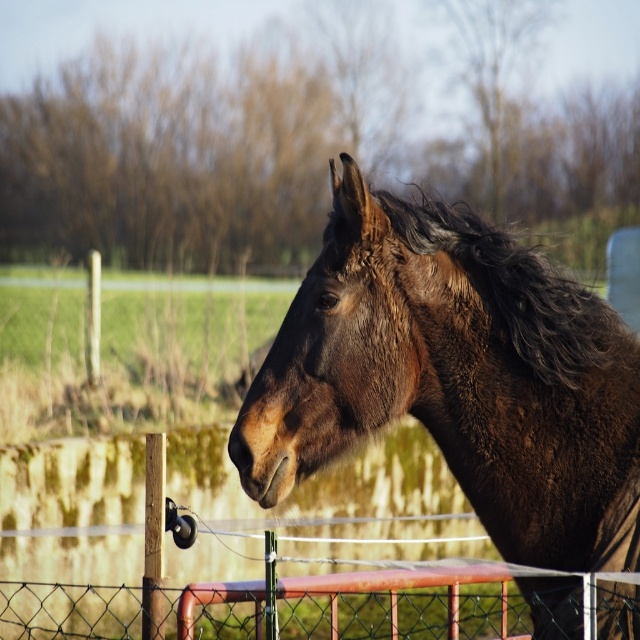Horse: (230, 155, 640, 639)
